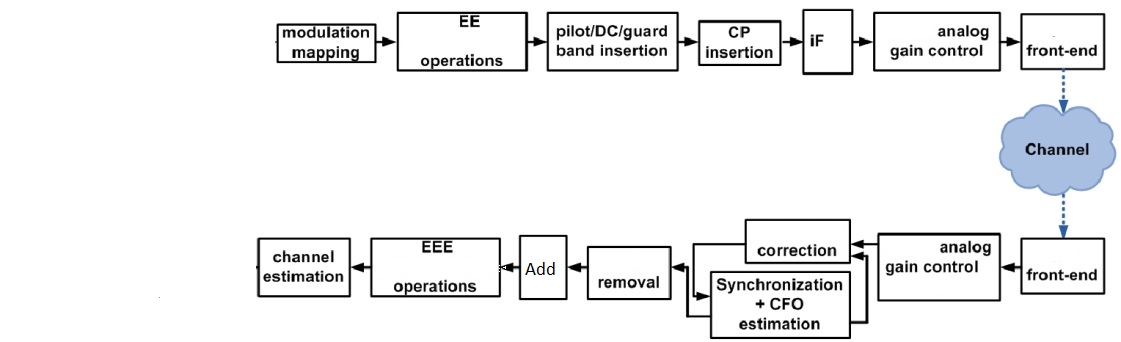arrow: (687, 238, 745, 305), (669, 258, 716, 322), (843, 249, 872, 327), (1052, 191, 1073, 237), (1054, 67, 1073, 116), (1000, 253, 1024, 277), (564, 256, 588, 278), (497, 258, 522, 278), (370, 31, 397, 49), (849, 235, 879, 251), (997, 32, 1022, 51), (349, 256, 372, 276), (778, 33, 804, 50), (854, 31, 876, 50), (527, 31, 548, 50), (677, 33, 697, 51)
process: (996, 99, 1119, 199), (705, 267, 855, 342), (874, 228, 1005, 305), (543, 7, 683, 77), (393, 7, 532, 77), (869, 7, 1005, 77), (367, 234, 506, 301), (1016, 9, 1110, 77), (740, 214, 855, 269), (1016, 235, 1110, 299), (582, 241, 676, 305), (694, 15, 785, 74), (272, 19, 381, 67), (798, 6, 857, 80), (516, 229, 570, 304)
text: (714, 274, 842, 335), (392, 233, 481, 299), (416, 9, 507, 71), (883, 236, 993, 281), (554, 20, 670, 62), (885, 23, 991, 61), (278, 25, 374, 65), (259, 247, 345, 290), (702, 23, 776, 62), (1023, 136, 1093, 160), (1023, 40, 1100, 61), (754, 241, 839, 260), (591, 273, 665, 292), (1024, 265, 1103, 282), (523, 256, 560, 279), (803, 24, 828, 50)
w: (252, 233, 354, 302)
